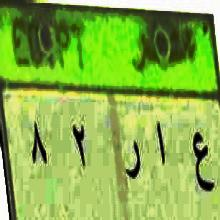2: (71, 115, 90, 181)
8: (30, 120, 49, 180)
ain: (189, 129, 217, 202)
alif: (155, 113, 168, 180)
raa: (125, 131, 141, 187)
